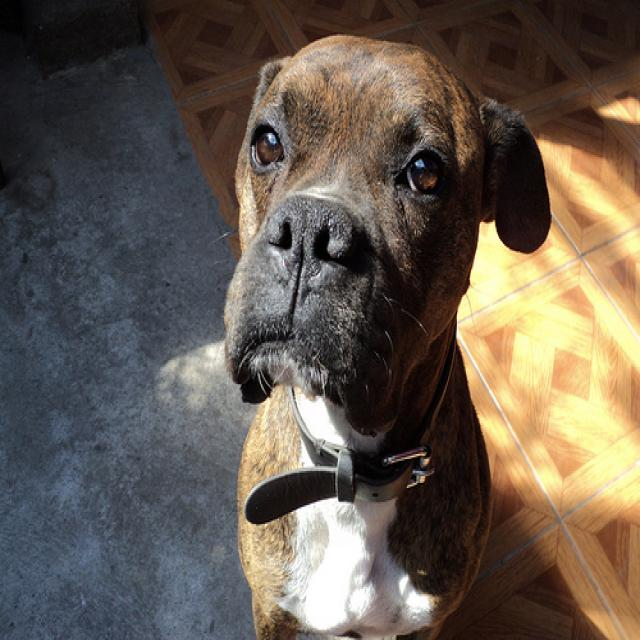dog-boxer: (214, 20, 558, 637)
